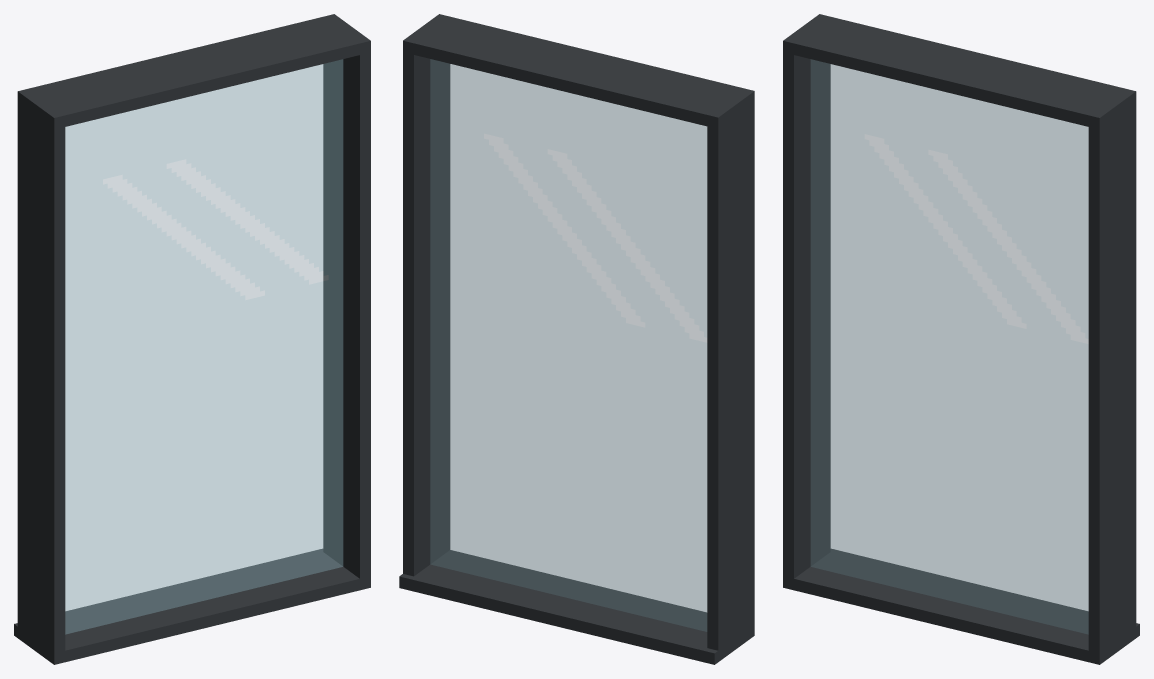
The model's file is t_window.glb.
3 renders of one model, left to right at view 1: azimuth 30°, elevation 25°; view 2: azimuth 150°, elevation 25°; view 3: azimuth 330°, elevation 25°, orthographic.
Parts seen in each view (by area): view 1: block_sheet, block_stile-1, block_stile1, block_lintel, block_sill; view 2: block_sheet, block_stile-1, block_stile1, block_lintel, block_sill; view 3: block_sheet, block_stile1, block_stile-1, block_lintel, block_sill.
Boxes of the visible parts, x1=… form: block_sheet: x1=65, y1=59, x2=343, y2=634; block_stile-1: x1=17, y1=89, x2=65, y2=664; block_stile1: x1=323, y1=14, x2=370, y2=590; block_lintel: x1=17, y1=14, x2=370, y2=129; block_sill: x1=14, y1=548, x2=370, y2=664; block_sheet: x1=430, y1=59, x2=707, y2=631; block_stile-1: x1=707, y1=88, x2=754, y2=661; block_stile1: x1=403, y1=14, x2=450, y2=576; block_lintel: x1=403, y1=14, x2=754, y2=128; block_sill: x1=399, y1=550, x2=754, y2=664; block_sheet: x1=810, y1=59, x2=1088, y2=634; block_stile1: x1=1088, y1=90, x2=1136, y2=664; block_stile-1: x1=783, y1=14, x2=830, y2=590; block_lintel: x1=783, y1=14, x2=1136, y2=129; block_sill: x1=783, y1=548, x2=1139, y2=664.
Size of the model in its own units: 1 by 1.65 by 0.22.
Materials: 2 (2 with a texture image).
